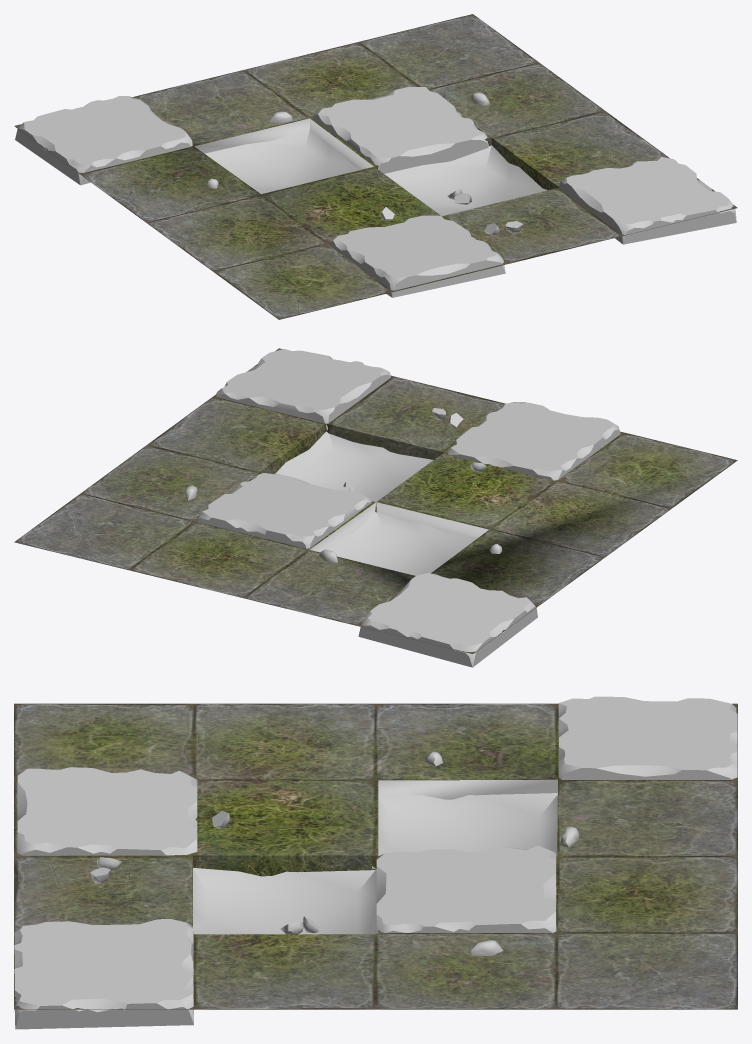
File: Floor_Lvl3_11.fbx
3 renders of one model, top to bottom at view 1: azimuth 30°, elevation 25°; view 2: azimuth 150°, elevation 25°; view 3: azimuth 270°, elevation 25°, orthographic. The views are drawn at different scales.
Visible parts, largest first — view 1: StoneFloor.006; view 2: StoneFloor.006; view 3: StoneFloor.006.
Part boxes in pixels (<box>): StoneFloor.006: <box>14,14,737,319</box>; StoneFloor.006: <box>14,348,737,667</box>; StoneFloor.006: <box>14,696,737,1029</box>.
Bounding box in the file's own units: 382 × 31.87 × 382.
